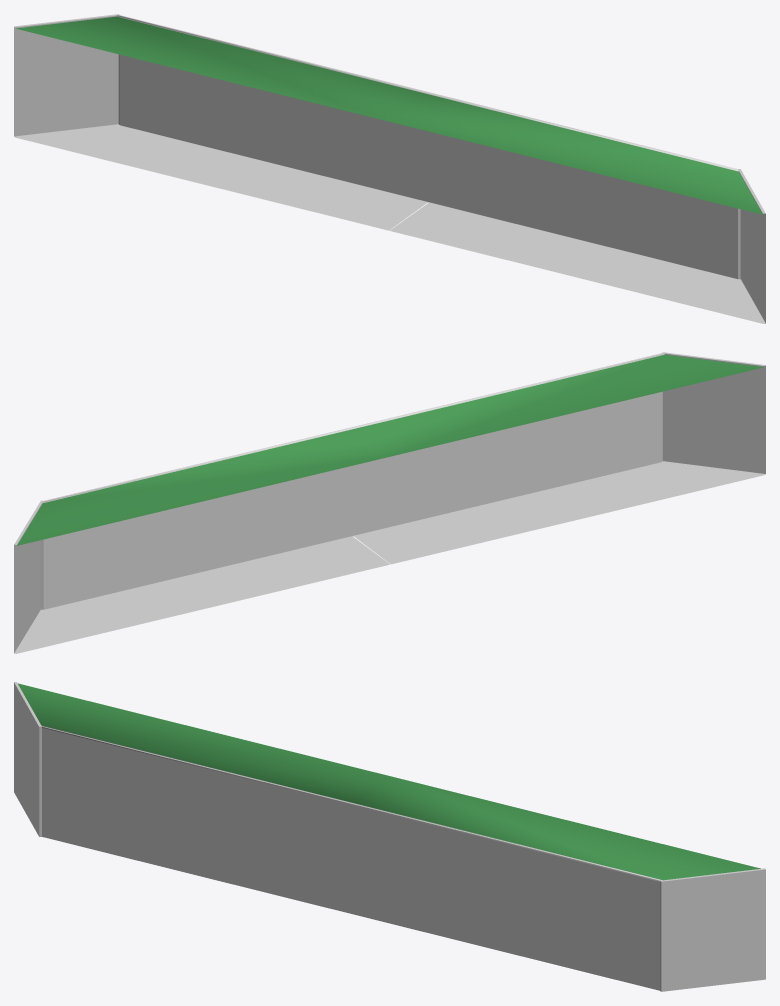
The model's file is firstquais.fbx.
The picture shows the model from 3 angles, top to bottom: view 1: azimuth 90°, elevation 25°; view 2: azimuth 150°, elevation 25°; view 3: azimuth 270°, elevation 25°; orthographic projection.
Visible parts, largest first — view 1: quais6.001; view 2: quais6.001; view 3: quais6.001.
Boxes of the visible parts, x1=… form: quais6.001: x1=14, y1=14, x2=765, y2=323; quais6.001: x1=14, y1=352, x2=765, y2=653; quais6.001: x1=14, y1=682, x2=765, y2=991.
Size of the model in its own units: 558 by 144 by 888.
